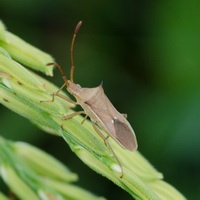insect: (46, 21, 136, 177)
